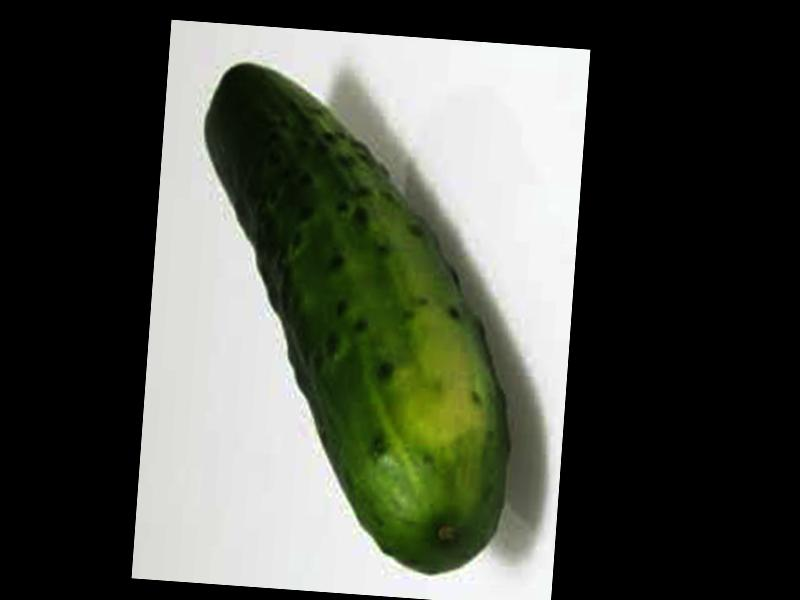Cucumber: (174, 60, 531, 575)
